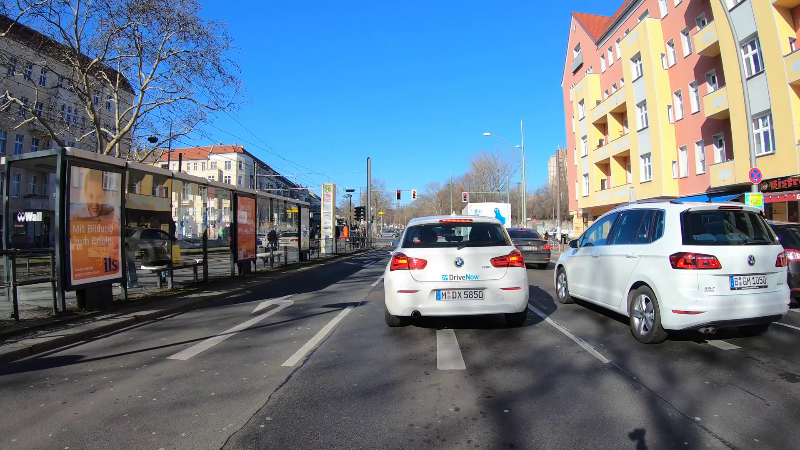Plate: (729, 272, 769, 288), (436, 288, 485, 299)
